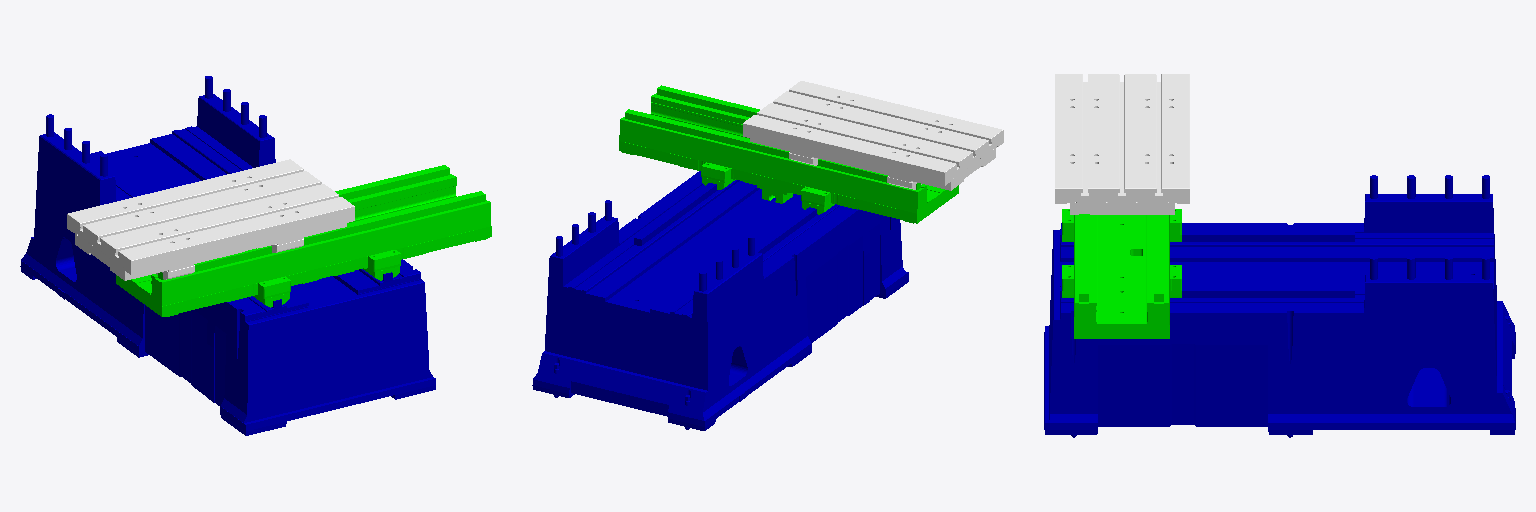
URDF robot description (haas_vf2):
<?xml version="1.0"?>
<robot name="haas_vf2">

  <material name="blue">
    <color rgba="0 0 0.8 0.62"/>
  </material>

  <material name="white">
    <color rgba="1 1 1 0.62"/>
  </material>

  <material name="green">
    <color rgba="0 1 0 0.62"/>
  </material>


  <link name="base_link">
    <visual>
        <geometry>
            <box size="0.001 0.001 0.001"/>
        </geometry>

    </visual>
    <collision>
        <geometry>
            <box size="0.001 0.001 0.001"/>

        </geometry>
    </collision>
  </link>

  <link name="vf2_base_link">
    <visual>
      <geometry>
        <mesh filename="package://haas_vf2/meshes/Body2.stl"/>
      </geometry>
      <material name="blue"/>
      <origin rpy="1.57079 0 0" xyz="0 0 0"/>
    </visual>
    <inertial>
        <origin xyz="0 0 0" rpy="0 0 0" />
        <mass value="3" />
        <inertia
          ixx="0.0" ixy="0.0" ixz="0.0"
          iyy="0.0" iyz="0.0"
          izz="0.0" />
    </inertial>
  </link>

  <link name="y_axis_slide">
    <visual>
      <geometry>
        <mesh filename="package://haas_vf2/meshes/Body3.stl"/>
      </geometry>
      <origin rpy="1.57079 0 0" xyz="0 0 0"/>
      <material name="green"/>
    </visual>
    <inertial>
        <origin xyz="0 0 0" rpy="0 0 0" />
        <mass value="2" />
        <inertia
          ixx="0.0" ixy="0.0" ixz="0.0"
          iyy="0.0" iyz="0.0"
          izz="0.0" />
    </inertial>
  </link>

  <link name="x_axis_table">
    <visual>
      <geometry>
        <mesh filename="package://haas_vf2/meshes/Body8.stl"/>
      </geometry>
      <origin rpy="1.57079 0 0" xyz="0 0 0"/>
      <material name="white"/>
    </visual>
    <inertial>
        <origin xyz="0 0 0" rpy="0 0 0" />
        <mass value="1" />
        <inertia
          ixx="0.0" ixy="0.0" ixz="0.0"
          iyy="0.0" iyz="0.0"
          izz="0.0" />
    </inertial>
  </link>

  <joint name="base_to_vf2" type="fixed">
    <parent link="base_link"/>
    <child link="vf2_base_link"/>
    <origin xyz="0 0 0"/>
  </joint>

  <joint name="base_to_y_axis" type="prismatic">
    <parent link="vf2_base_link"/>
    <child link="y_axis_slide"/>
    <origin xyz="0 0 0"/>
    <!-- Here we define the axis along which the geometry is moved -->
    <axis xyz="0 1 0"/>
    <!-- Here we define the joint's upper and lower limits -->
    <limit effort="1000.0" lower="0.0" upper="25" velocity="10"/>
  </joint>

  <joint name="y_axis_to_x_axis" type="prismatic">
    <parent link="y_axis_slide"/>
    <child link="x_axis_table"/>
    <origin  xyz="0 0 0"/>
    <!-- Here we define the axis along which the geometry is moved -->
    <axis xyz="1 0 0"/>
    <!-- Here we define the joint's upper and lower limits -->
    <limit effort="1000.0" lower="0.0" upper="25" velocity="10"/>
  </joint>

 
    <!-- This block provides the simulator (Gazebo) with information on a few additionalphysical properties. See http://gazebosim.org/tutorials/?tut=ros_urdf for more-->
    <gazebo>
        <plugin name="gazebo_ros_control" filename="libgazebo_ros_control.so">
        <robotNamespace>/</robotNamespace>
        </plugin>
    </gazebo>

    <!-- This block connects the wheel joint to an actuator (motor), which informs bothsimulation and visualization of the robot -->
    <transmission name="y_axis_to_x_axis_trans">
      <type>transmission_interface/SimpleTransmission</type>
      <actuator name="y_axis_to_x_axis_motor">
        <mechanicalReduction>1</mechanicalReduction>
      </actuator>
      <joint name="y_axis_to_x_axis">
        <hardwareInterface>hardware_interface/PositionJointInterface</hardwareInterface>
      </joint>
    </transmission>

    <transmission name="base_to_y_axis_trans">
      <type>transmission_interface/SimpleTransmission</type>
      <actuator name="base_to_y_axis_motor">
        <mechanicalReduction>1</mechanicalReduction>
      </actuator>
      <joint name="base_to_y_axis">
        <hardwareInterface>hardware_interface/PositionJointInterface</hardwareInterface>
      </joint>
    </transmission>
    

</robot>

--- Facts derived from the render (not from the file) ---
Views: 3 orthographic renders of the robot side by side, from view 1: azimuth 30°, elevation 25°; view 2: azimuth 150°, elevation 25°; view 3: azimuth 270°, elevation 25°.
Model haas_vf2 with 4 links and 3 joints (2 prismatic, 1 fixed), rooted at base_link, posed every joint at zero.
Links seen in each view (by area): view 1: vf2_base_link, y_axis_slide, x_axis_table; view 2: vf2_base_link, y_axis_slide, x_axis_table; view 3: vf2_base_link, x_axis_table, y_axis_slide.
Boxes of the visible links, bbox=[...] form: vf2_base_link: bbox=[20, 76, 435, 435]; y_axis_slide: bbox=[116, 165, 491, 316]; x_axis_table: bbox=[67, 159, 354, 280]; vf2_base_link: bbox=[532, 171, 908, 430]; y_axis_slide: bbox=[619, 85, 958, 223]; x_axis_table: bbox=[743, 81, 1003, 190]; vf2_base_link: bbox=[1044, 175, 1515, 437]; x_axis_table: bbox=[1055, 74, 1189, 214]; y_axis_slide: bbox=[1062, 209, 1181, 338].
Bounding box of the posed robot: 59.45 × 62.84 × 31.58 m (x, y, z).
3 mesh visuals loaded from 3 distinct referenced files (3 binary STL).